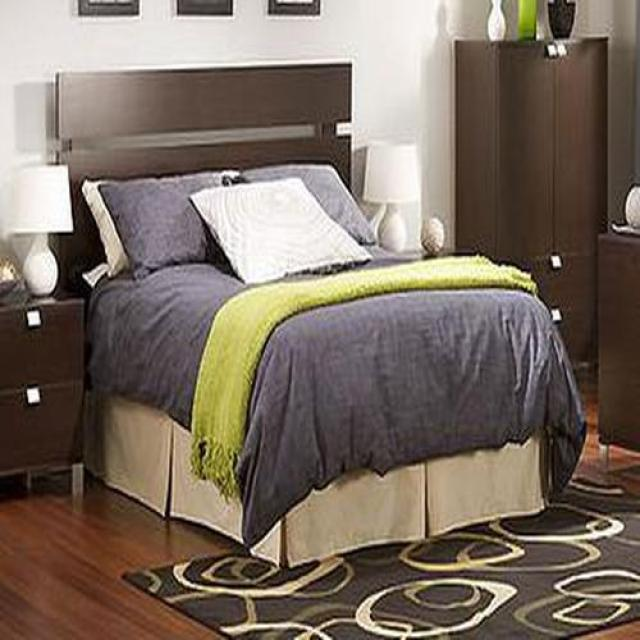bed: (54, 63, 586, 568)
